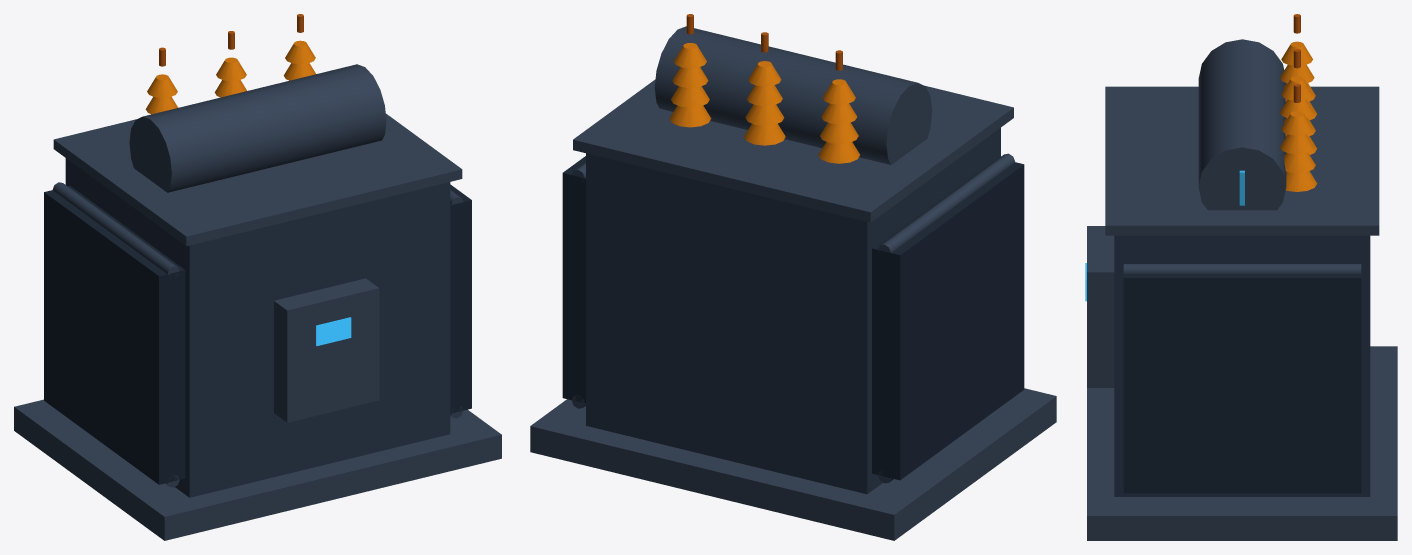
Rendered from transformer.glb.
The picture shows the model from 3 angles, left to right: view 1: azimuth 30°, elevation 25°; view 2: azimuth 150°, elevation 25°; view 3: azimuth 270°, elevation 25°; orthographic projection. The views are drawn at different scales.
Size of the model in its own units: 4.4 by 4.9 by 3.42.
